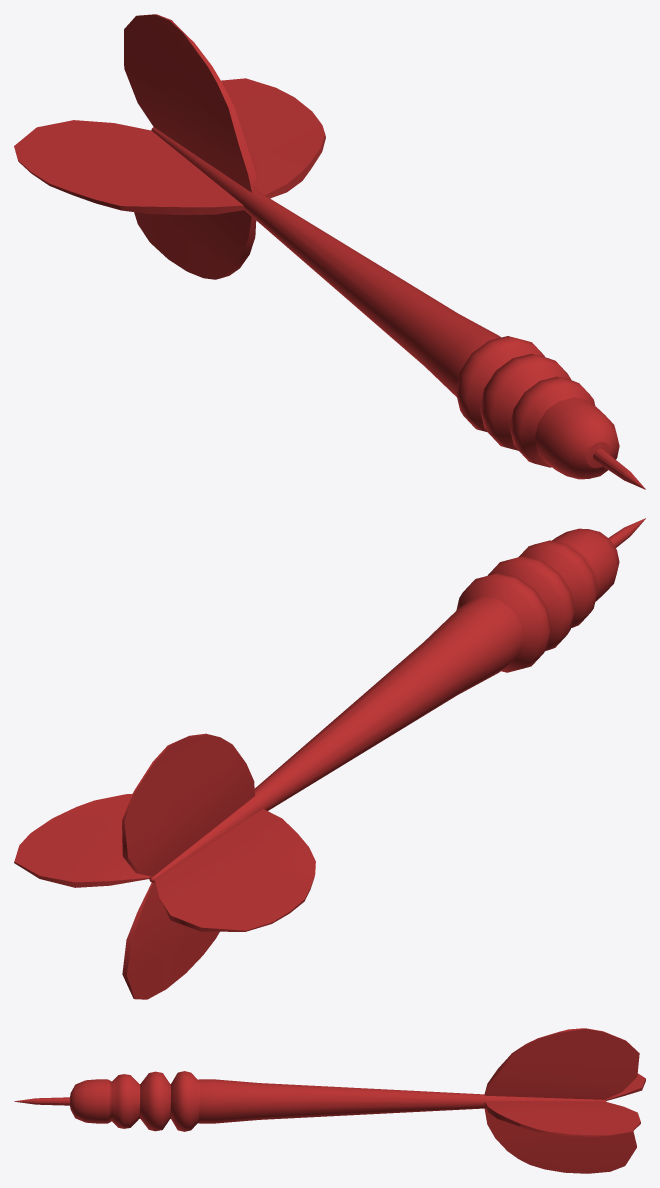
File: dardo.fbx
3 renders of one model, top to bottom at view 1: azimuth 30°, elevation 25°; view 2: azimuth 150°, elevation 25°; view 3: azimuth 270°, elevation 25°, orthographic. The views are drawn at different scales.
Visible parts, largest first — view 1: pCylinder1; view 2: pCylinder1; view 3: pCylinder1.
Part boxes in pixels (<box>): pCylinder1: <box>14,14,645,489</box>; pCylinder1: <box>14,518,645,999</box>; pCylinder1: <box>14,1028,645,1173</box>.
Bounding box in the file's own units: 8.03 × 7.07 × 27.96.
